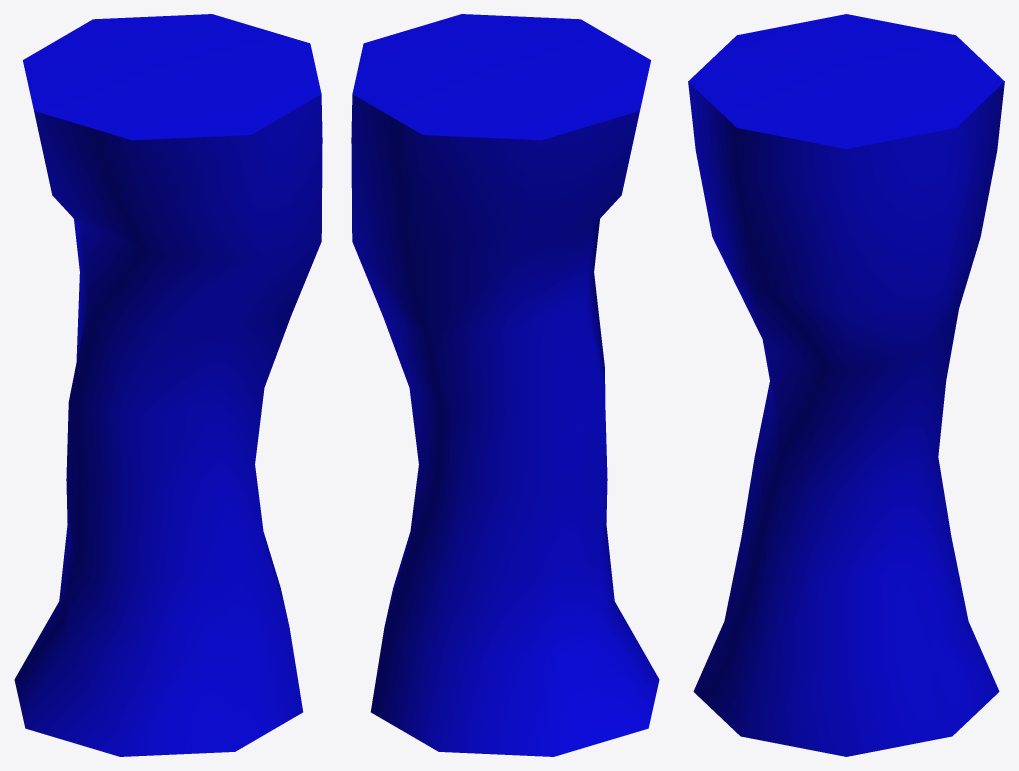
File: m_cavepillar.fbx
3 renders of one model, left to right at view 1: azimuth 30°, elevation 25°; view 2: azimuth 150°, elevation 25°; view 3: azimuth 270°, elevation 25°, orthographic.
Visible parts, largest first — view 1: m_cavepillar; view 2: m_cavepillar; view 3: m_cavepillar.
Part boxes in pixels (box(x1,y1,x2,y2)): m_cavepillar: box(14, 14, 322, 756); m_cavepillar: box(351, 14, 659, 756); m_cavepillar: box(688, 14, 1004, 756).
Bounding box in the file's own units: 2.35 × 4.87 × 2.24.
